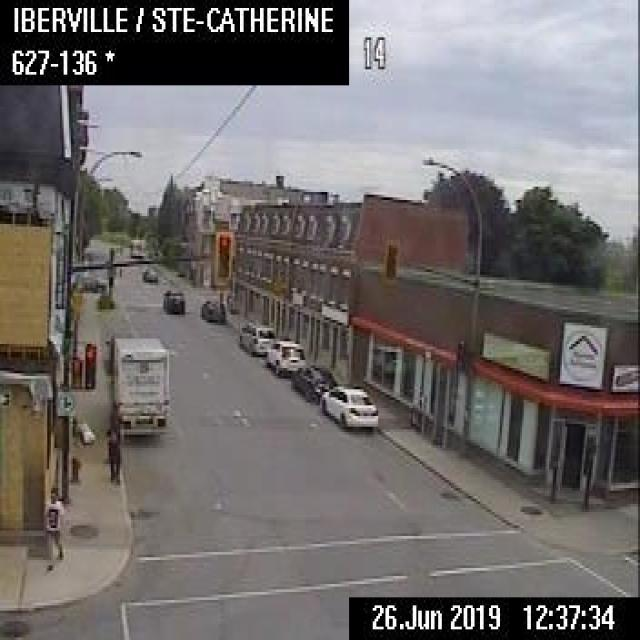bus: (129, 237, 144, 256)
pedestrian: (42, 485, 65, 569), (67, 415, 83, 482), (105, 418, 120, 483)
vehicle: (111, 333, 169, 438), (319, 383, 377, 427), (289, 362, 336, 402), (264, 338, 304, 375), (238, 319, 274, 351), (69, 269, 106, 290), (200, 296, 223, 320), (162, 288, 184, 312), (142, 264, 156, 280)
